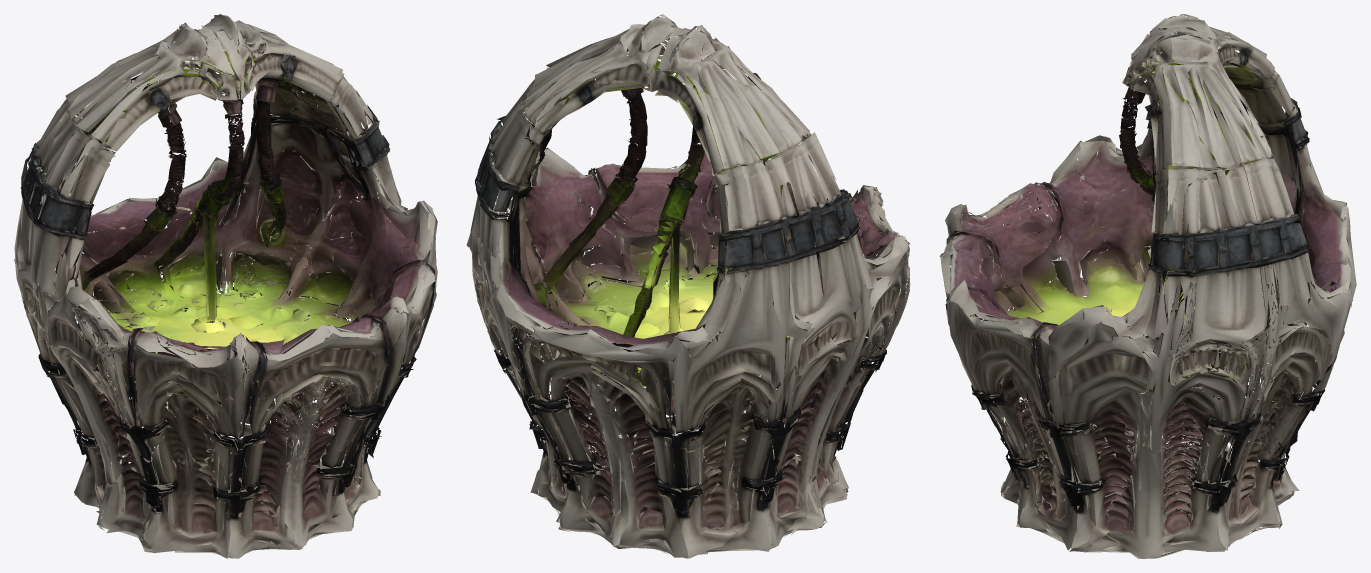
Rendered from prop_alien_feeding_basin.glb.
3 views of the same model, side by side, from view 1: azimuth 30°, elevation 25°; view 2: azimuth 150°, elevation 25°; view 3: azimuth 270°, elevation 25° (orthographic). The views are drawn at different scales.
Visible parts, largest first — view 1: node_0; view 2: node_0; view 3: node_0.
Boxes of the visible parts, <box> form: node_0: <box>14,14,437,558</box>; node_0: <box>466,14,910,558</box>; node_0: <box>939,14,1356,558</box>.
Bounding box in the file's own units: 0.8566 × 1.04 × 0.8322.
Materials: 1 (1 with a texture image).
